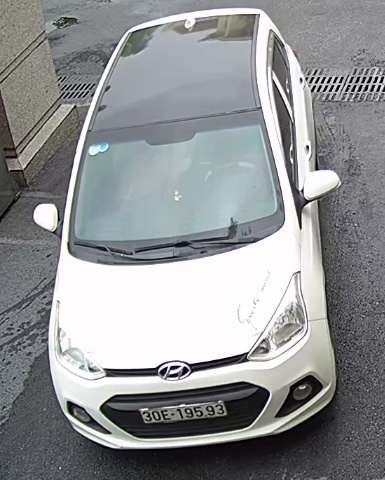vehicle plate: (126, 400, 239, 427)
